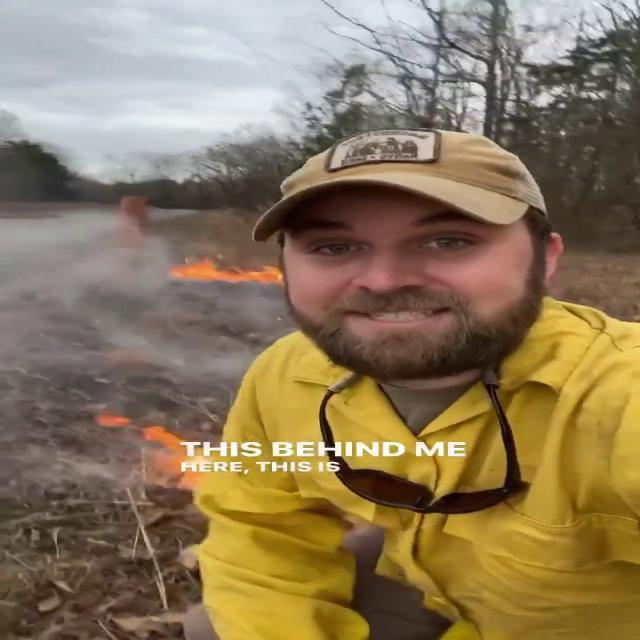Fire: (168, 250, 284, 286)
Smoke: (1, 197, 242, 394)
